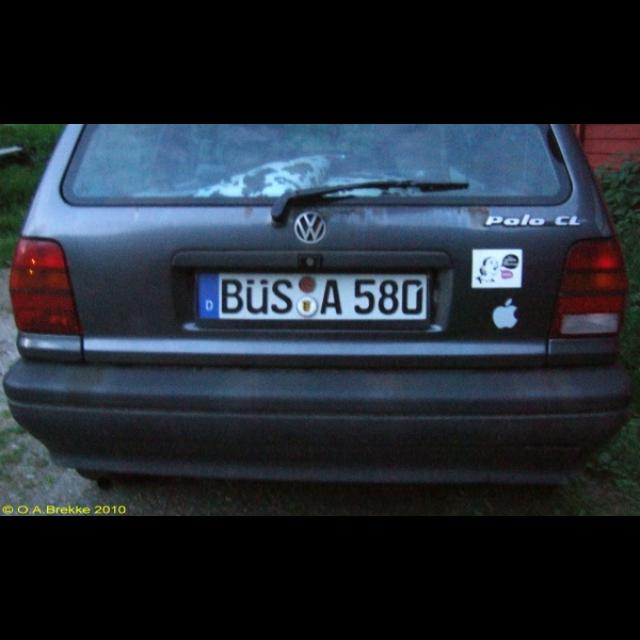d_license_plate: (196, 270, 426, 320)
